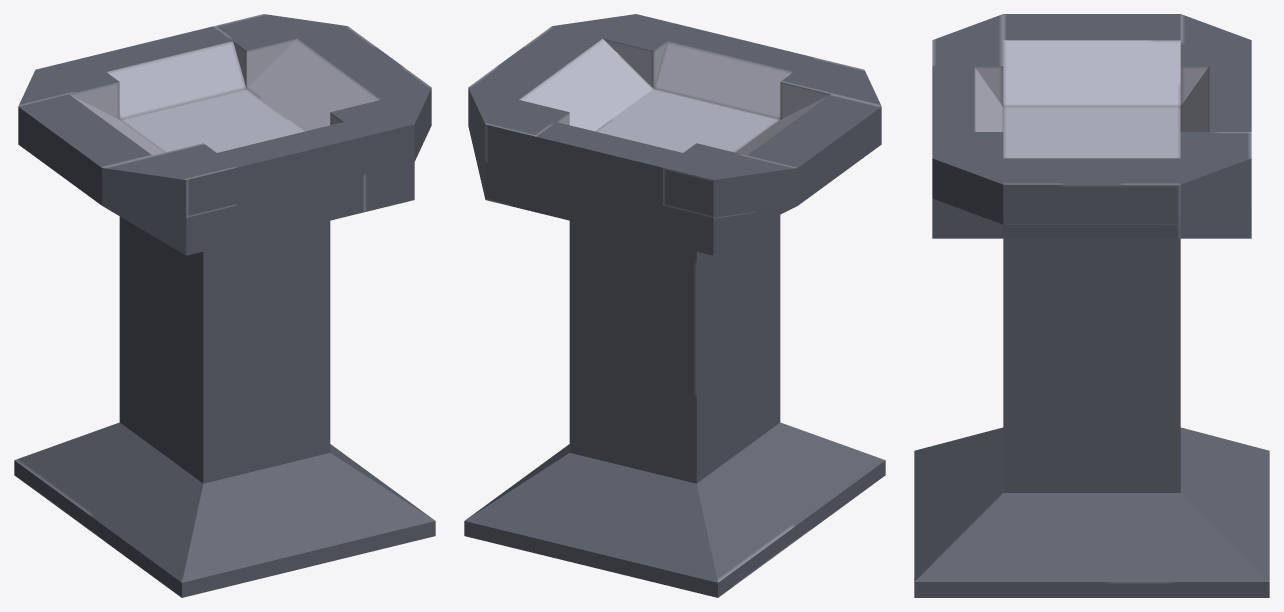
File: sunak.obj
The picture shows the model from 3 angles, left to right: view 1: azimuth 30°, elevation 25°; view 2: azimuth 150°, elevation 25°; view 3: azimuth 270°, elevation 25°; orthographic projection. The views are drawn at different scales.
Parts seen in each view (by area): view 1: cube; view 2: cube; view 3: cube.
Boxes of the visible parts, left/top/right/bottom form: cube: left=14, top=14, right=435, bottom=597; cube: left=464, top=14, right=885, bottom=597; cube: left=914, top=14, right=1269, bottom=597.
Bounding box in the file's own units: 0.7812 × 0.925 × 0.6875.
